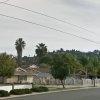Tree: (35, 30, 100, 80)
